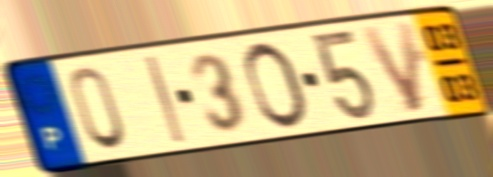0: (68, 64, 128, 153)
3: (188, 49, 246, 136)
5: (306, 28, 379, 123)
I: (142, 53, 189, 147)
O: (242, 39, 312, 133)
V: (356, 17, 425, 117)
